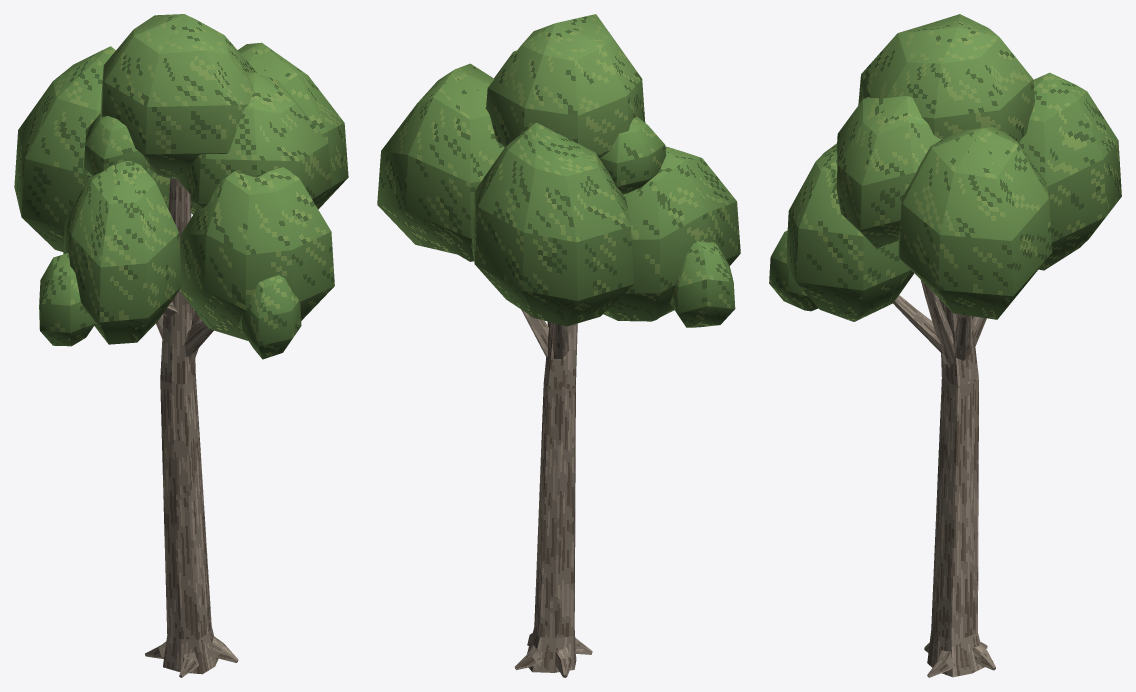
The model's file is t_tree_hickory.glb.
3 renders of one model, left to right at view 1: azimuth 30°, elevation 25°; view 2: azimuth 150°, elevation 25°; view 3: azimuth 270°, elevation 25°, orthographic. The views are drawn at different scales.
Parts seen in each view (by area): view 1: t_tree_hickory_mesh; view 2: t_tree_hickory_mesh; view 3: t_tree_hickory_mesh.
Part boxes in pixels (box(x1,y1,x2,y2)): t_tree_hickory_mesh: box(14, 14, 348, 677); t_tree_hickory_mesh: box(377, 14, 740, 677); t_tree_hickory_mesh: box(769, 14, 1121, 677).
Bounding box in the file's own units: 2.2 × 4.3 × 2.17.
Materials: 1 (1 with a texture image).
